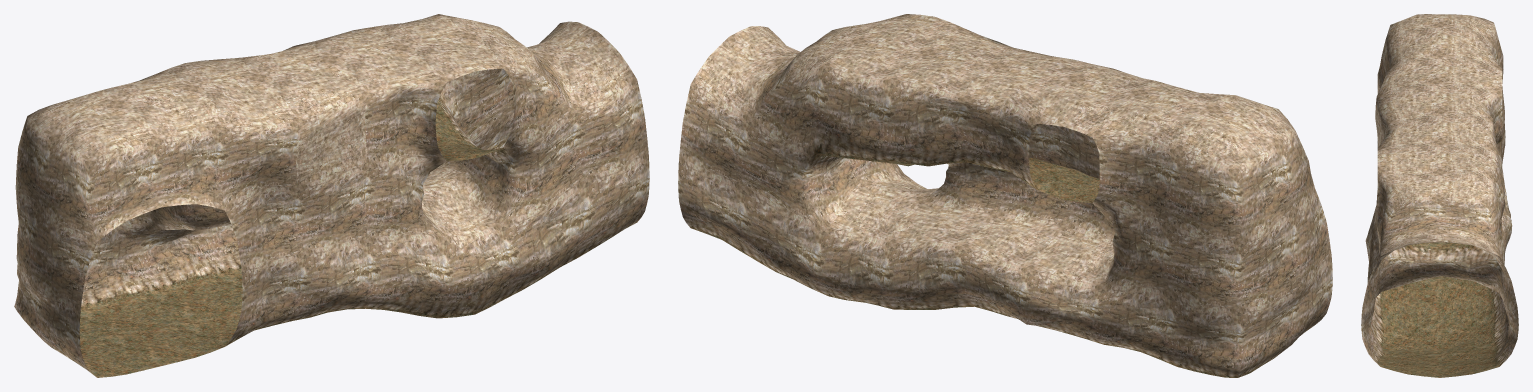
Rendered from thm_all_cave_s03_r6_mesh_r6.fbx.
3 views of the same model, side by side, from view 1: azimuth 30°, elevation 25°; view 2: azimuth 150°, elevation 25°; view 3: azimuth 270°, elevation 25° (orthographic). The views are drawn at different scales.
Parts seen in each view (by area): view 1: mesh_node; view 2: mesh_node; view 3: mesh_node.
Part boxes in pixels (box(x1,y1,x2,y2)): mesh_node: box(14, 14, 649, 377); mesh_node: box(678, 14, 1332, 377); mesh_node: box(1361, 14, 1518, 377).
Size of the model in its own units: 65.18 by 29.36 by 20.28.
